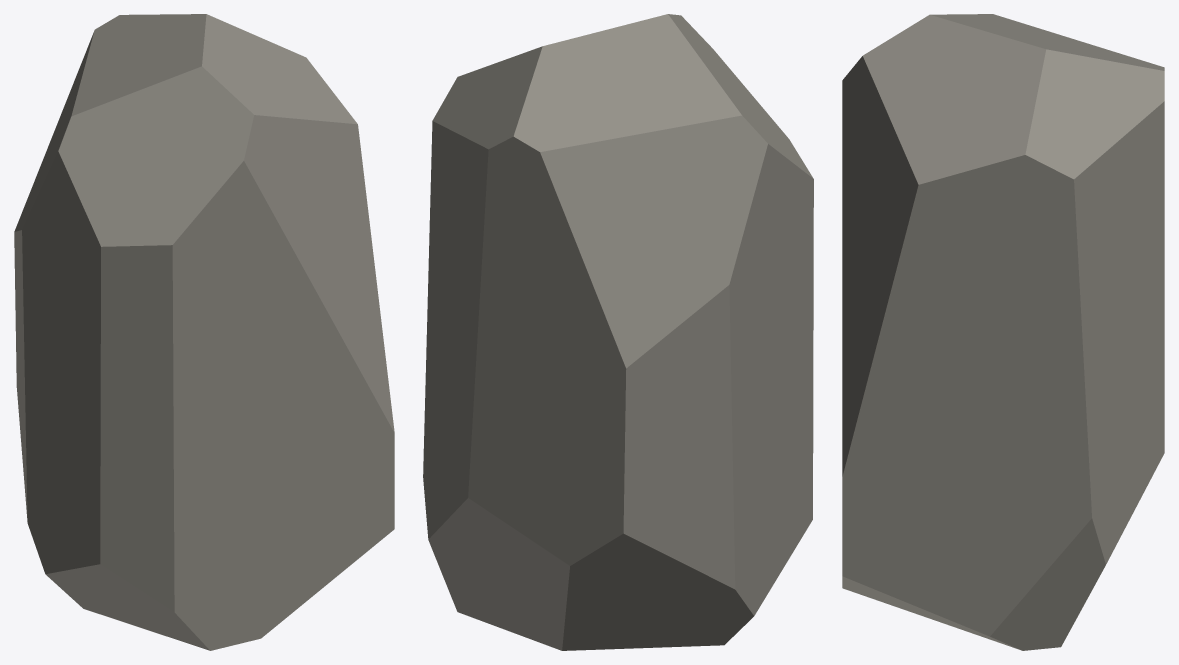
The model's file is Rock_Round_m_16.fbx.
The picture shows the model from 3 angles, left to right: view 1: azimuth 30°, elevation 25°; view 2: azimuth 150°, elevation 25°; view 3: azimuth 270°, elevation 25°; orthographic projection. The views are drawn at different scales.
Parts seen in each view (by area): view 1: Rock_Round_m_16; view 2: Rock_Round_m_16; view 3: Rock_Round_m_16.
Boxes of the visible parts, x1=… form: Rock_Round_m_16: x1=14, y1=14, x2=394, y2=650; Rock_Round_m_16: x1=423, y1=14, x2=813, y2=650; Rock_Round_m_16: x1=842, y1=14, x2=1164, y2=650.
Size of the model in its own units: 77 by 149 by 77.
